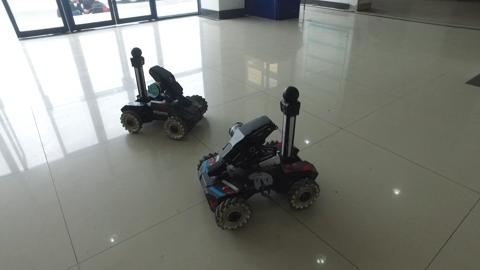chariot: (198, 79, 328, 236), (117, 41, 212, 140)
